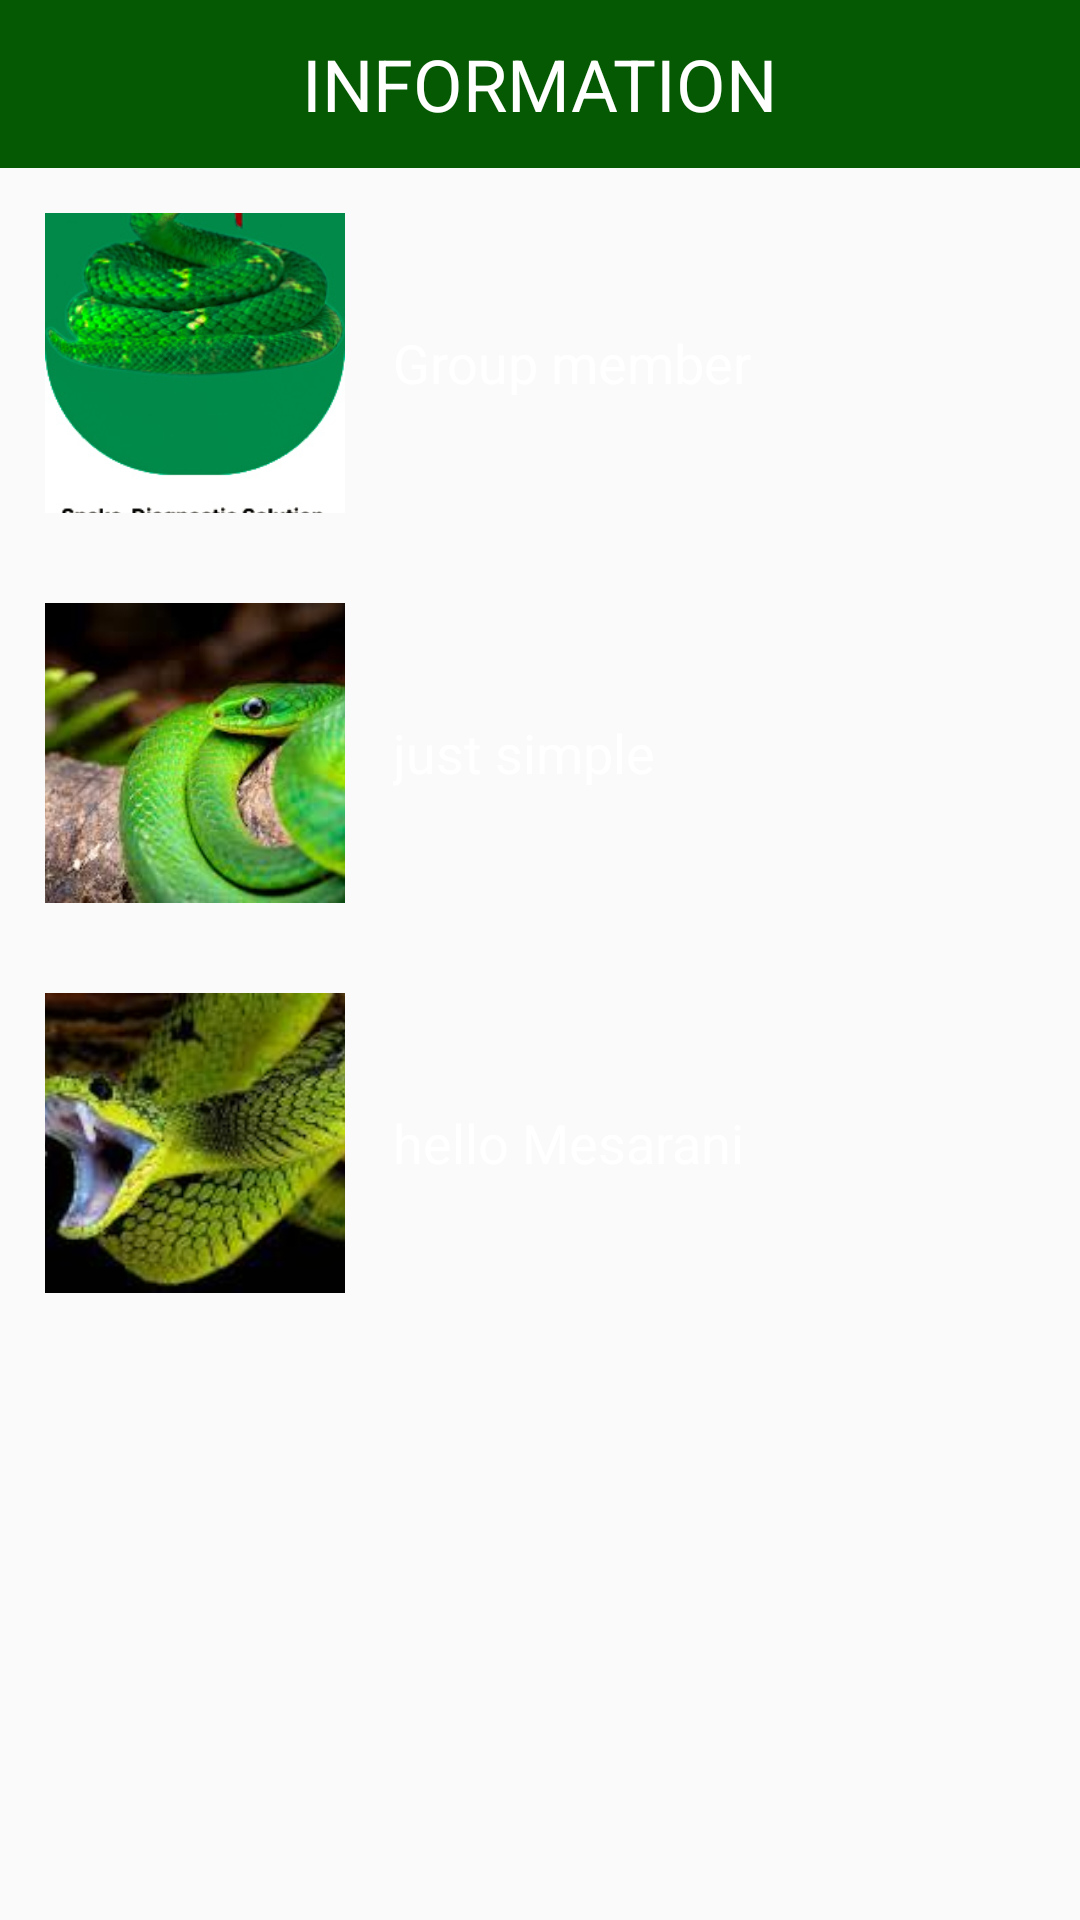

Where to tap for icons on this 1080px×1920px app screen, as [x,y]:
nonvenomous: [195,753]
venmous: [195,1143]
